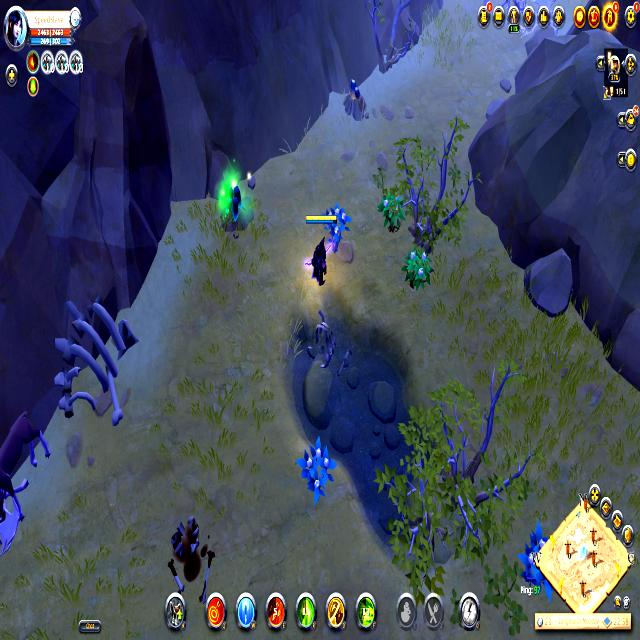hide: (519, 511, 555, 604), (298, 433, 335, 502), (324, 195, 352, 258), (403, 243, 432, 296), (378, 185, 405, 238)
ore: (0, 393, 60, 548)
player: (217, 174, 258, 236), (340, 74, 372, 124)
red: (302, 211, 336, 290)
